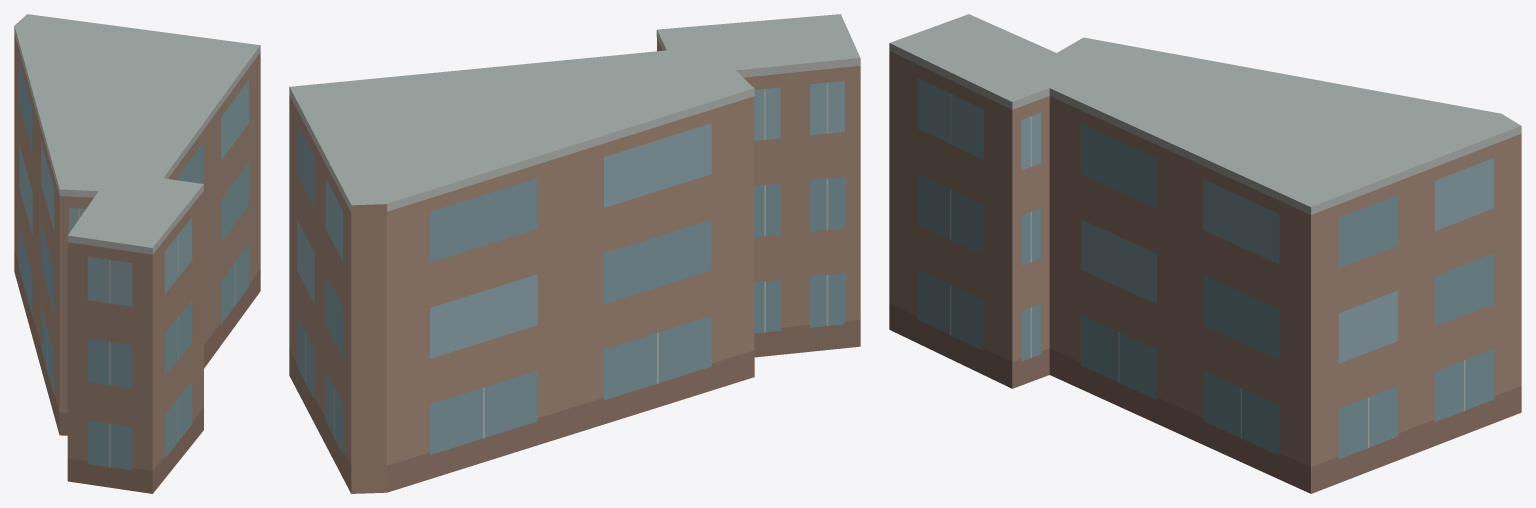
The model's file is survey-upis-32517645.glb.
3 views of the same model, side by side, from view 1: azimuth 30°, elevation 25°; view 2: azimuth 150°, elevation 25°; view 3: azimuth 270°, elevation 25° (orthographic). The views are drawn at different scales.
Parts seen in each view (by area): view 1: survey-upis-32517645.tmp; view 2: survey-upis-32517645.tmp; view 3: survey-upis-32517645.tmp.
Boxes of the visible parts, box(x1,y1,x2,y2) form: survey-upis-32517645.tmp: box(14, 14, 260, 493); survey-upis-32517645.tmp: box(289, 14, 860, 493); survey-upis-32517645.tmp: box(889, 14, 1521, 493).
Size of the model in its own units: 13.02 by 9 by 18.
